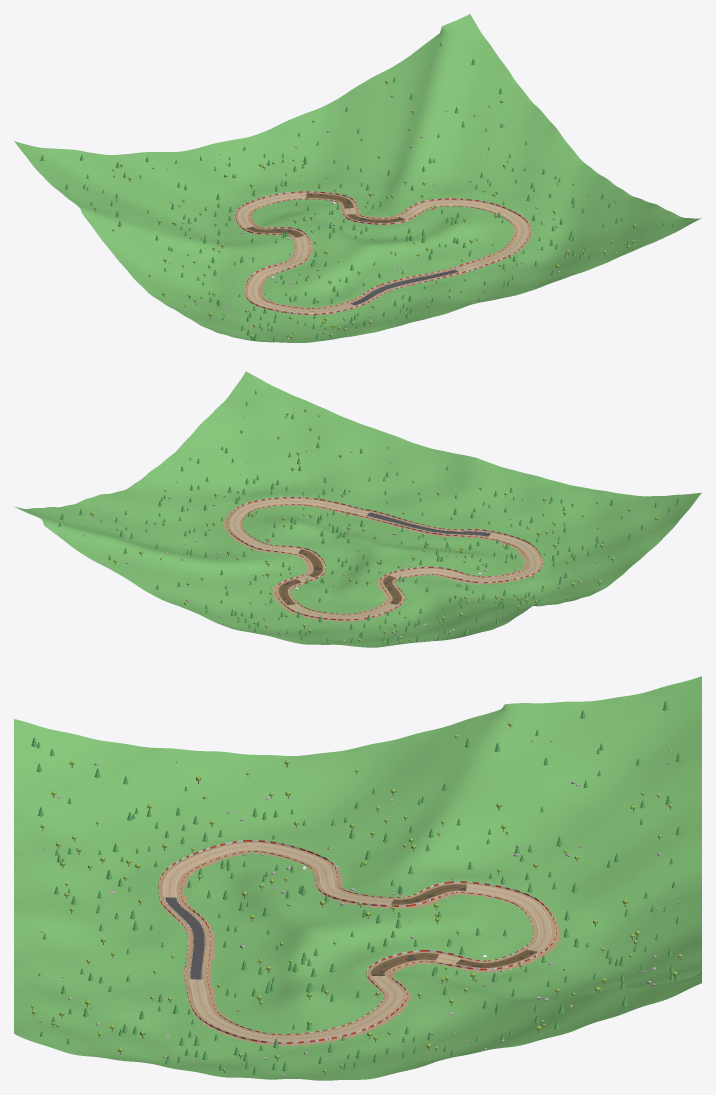
The model's file is world.glb.
The picture shows the model from 3 angles, top to bottom: view 1: azimuth 30°, elevation 25°; view 2: azimuth 150°, elevation 25°; view 3: azimuth 270°, elevation 25°; orthographic projection. The views are drawn at different scales.
Parts seen in each view (by area): view 1: SM_Terrain, SM_Scenery, SM_Track, SM_Barriers; view 2: SM_Terrain, SM_Scenery, SM_Track, SM_Barriers; view 3: SM_Terrain, SM_Track, SM_Scenery, SM_Barriers.
Part boxes in pixels (bbox=[...]): SM_Terrain: bbox=[14, 14, 701, 342]; SM_Scenery: bbox=[40, 42, 674, 341]; SM_Track: bbox=[236, 192, 529, 313]; SM_Barriers: bbox=[235, 191, 530, 314]; SM_Terrain: bbox=[14, 371, 701, 647]; SM_Scenery: bbox=[58, 390, 680, 644]; SM_Track: bbox=[227, 498, 542, 619]; SM_Barriers: bbox=[226, 497, 542, 620]; SM_Terrain: bbox=[14, 676, 701, 1080]; SM_Track: bbox=[159, 841, 555, 1042]; SM_Scenery: bbox=[30, 701, 682, 1076]; SM_Barriers: bbox=[158, 840, 556, 1043].
Size of the model in its own units: 904 by 168 by 796.
